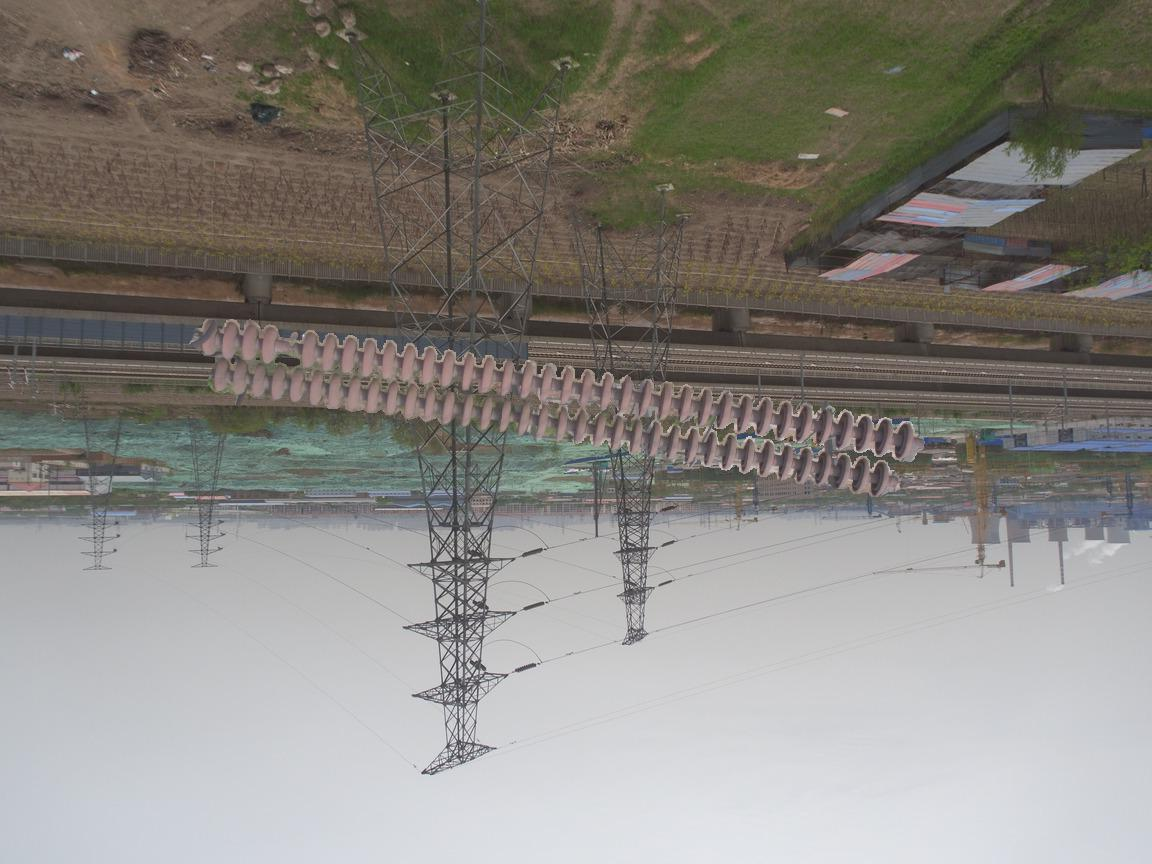insulator: (189, 314, 934, 502)
insulator_stringdrop: (258, 319, 319, 373)
